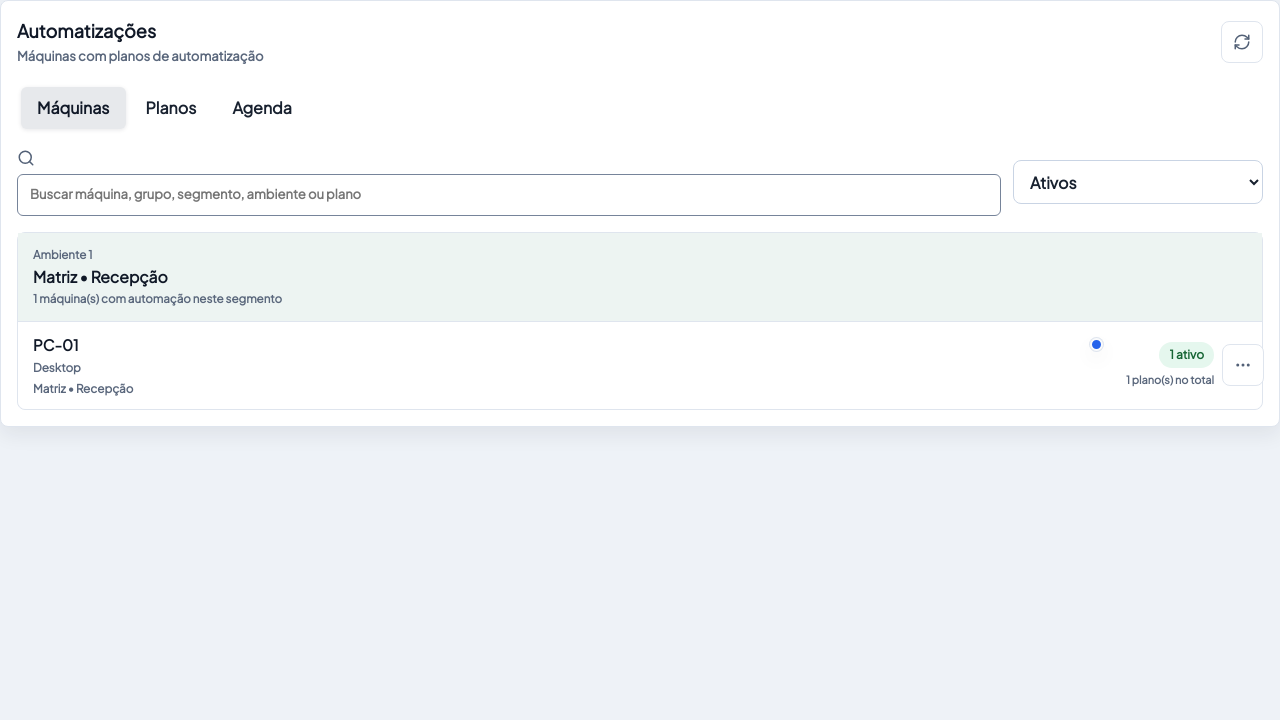
it: AutomationManagementView - máquinas › abre os detalhes da máquina e carrega a agenda dela
Click the button with aria-label "Gerenciar automações de PC-01".
click(56, 344)  # box [18,322,1118,409]
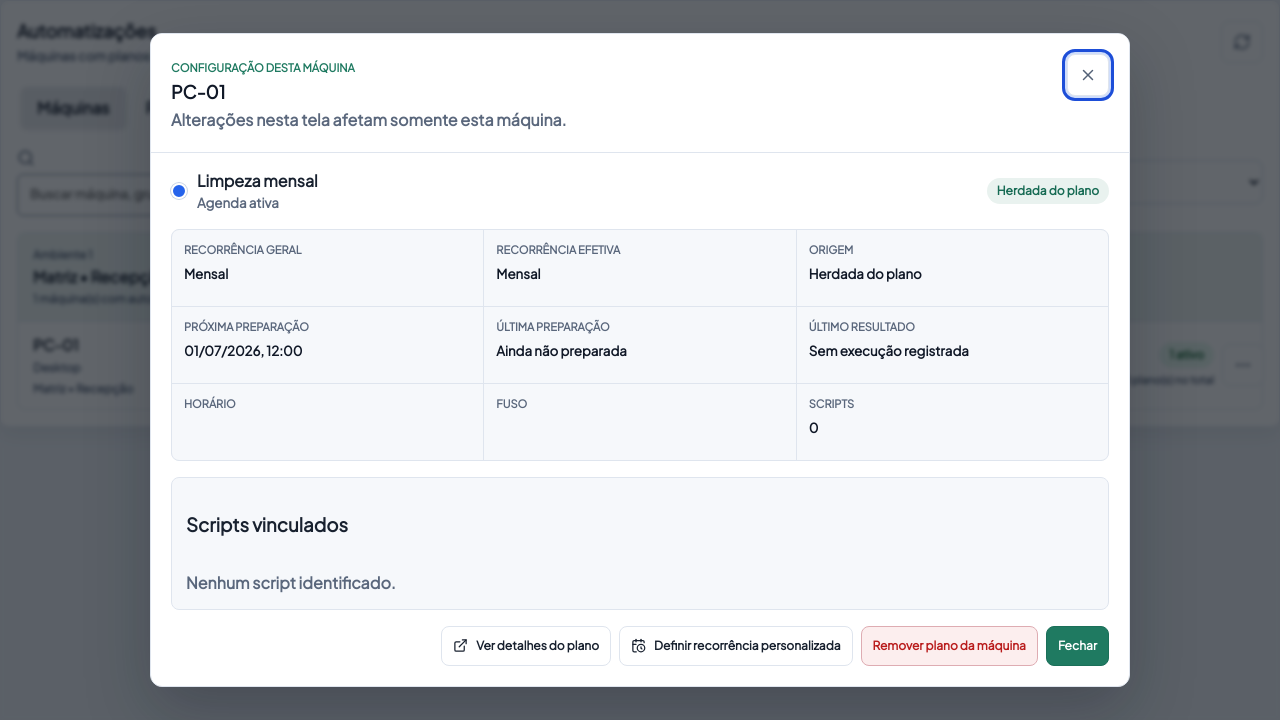
Now the text "Configuração desta máquina" is shown, box [171,60,355,74]
